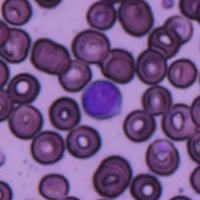L: (82, 79, 122, 119)
